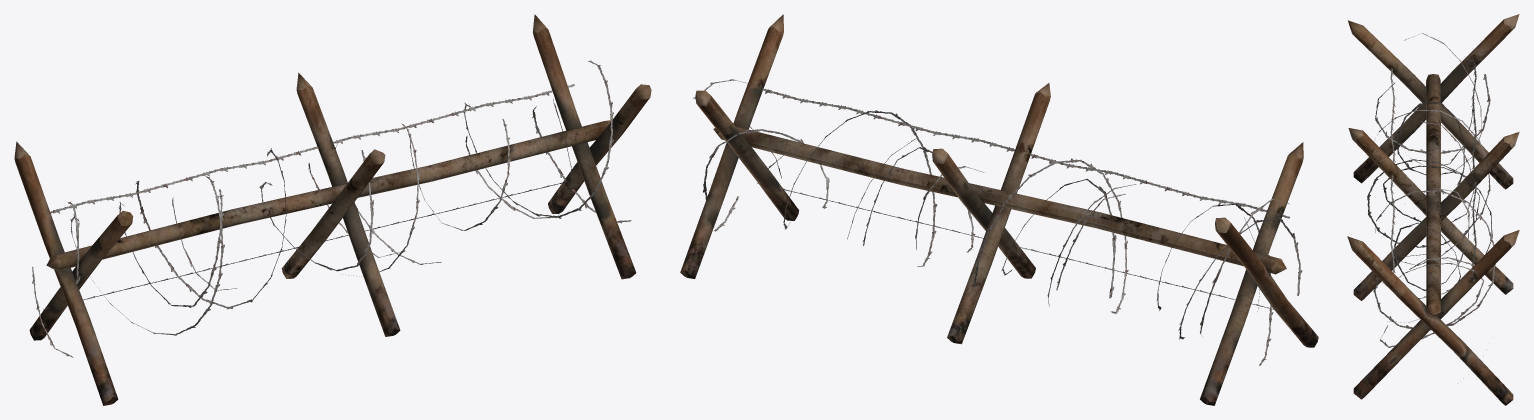
Rendered from wire.glb.
The picture shows the model from 3 angles, left to right: view 1: azimuth 30°, elevation 25°; view 2: azimuth 150°, elevation 25°; view 3: azimuth 270°, elevation 25°; orthographic projection. The views are drawn at different scales.
Parts seen in each view (by area): view 1: object_0_object_0_0; view 2: object_0_object_0_0; view 3: object_0_object_0_0.
Part boxes in pixels (box(x1,y1,x2,y2)): object_0_object_0_0: box(14, 14, 651, 405); object_0_object_0_0: box(680, 14, 1318, 405); object_0_object_0_0: box(1347, 14, 1519, 405).
Bounding box in the file's own units: 5.16 × 1.69 × 1.57.
Materials: 1 (1 with a texture image).
